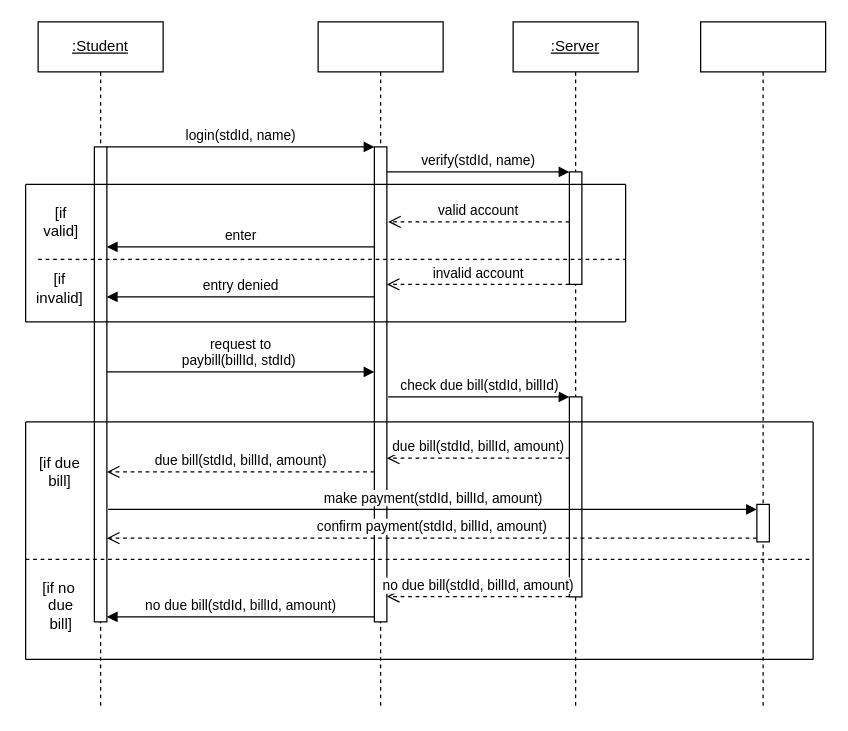
The diagram is 848 pixels wide and 731 high, and some of its shapes have lost their labels. Each missing label, with the box of its shape:
:Bill: (699, 21, 826, 709)
:Hall Authority: (317, 21, 443, 709)
